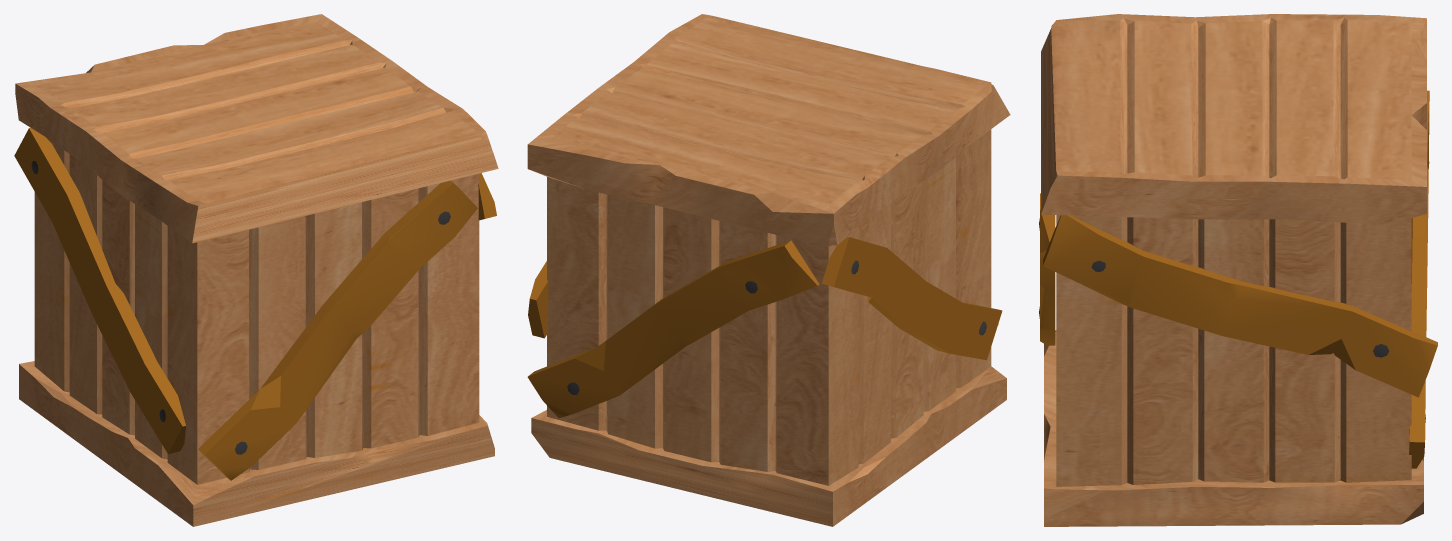
The picture shows the model from 3 angles, left to right: view 1: azimuth 30°, elevation 25°; view 2: azimuth 150°, elevation 25°; view 3: azimuth 270°, elevation 25°; orthographic projection. The views are drawn at different scales.
Visible parts, largest first — view 1: box; view 2: box; view 3: box.
Part boxes in pixels (x1=…): box: x1=14, y1=14, x2=498, y2=526; box: x1=527, y1=14, x2=1010, y2=526; box: x1=1039, y1=14, x2=1437, y2=526.
Bounding box in the file's own units: 97.59 × 97.27 × 100.
